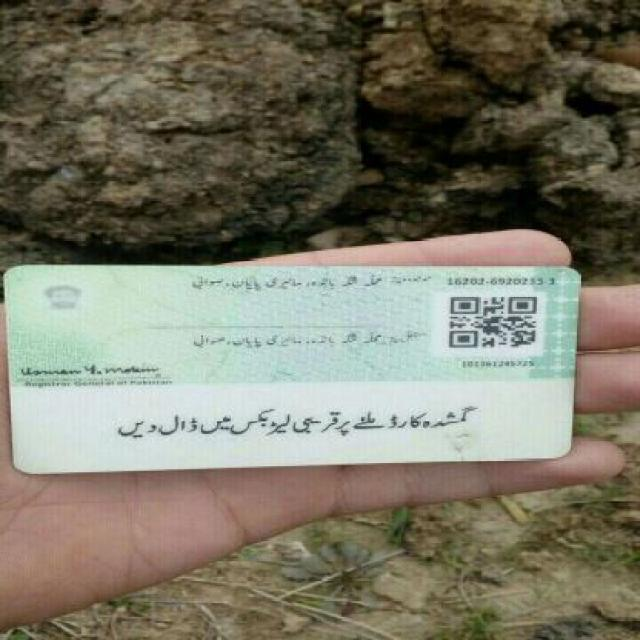Back: (3, 258, 586, 464)
